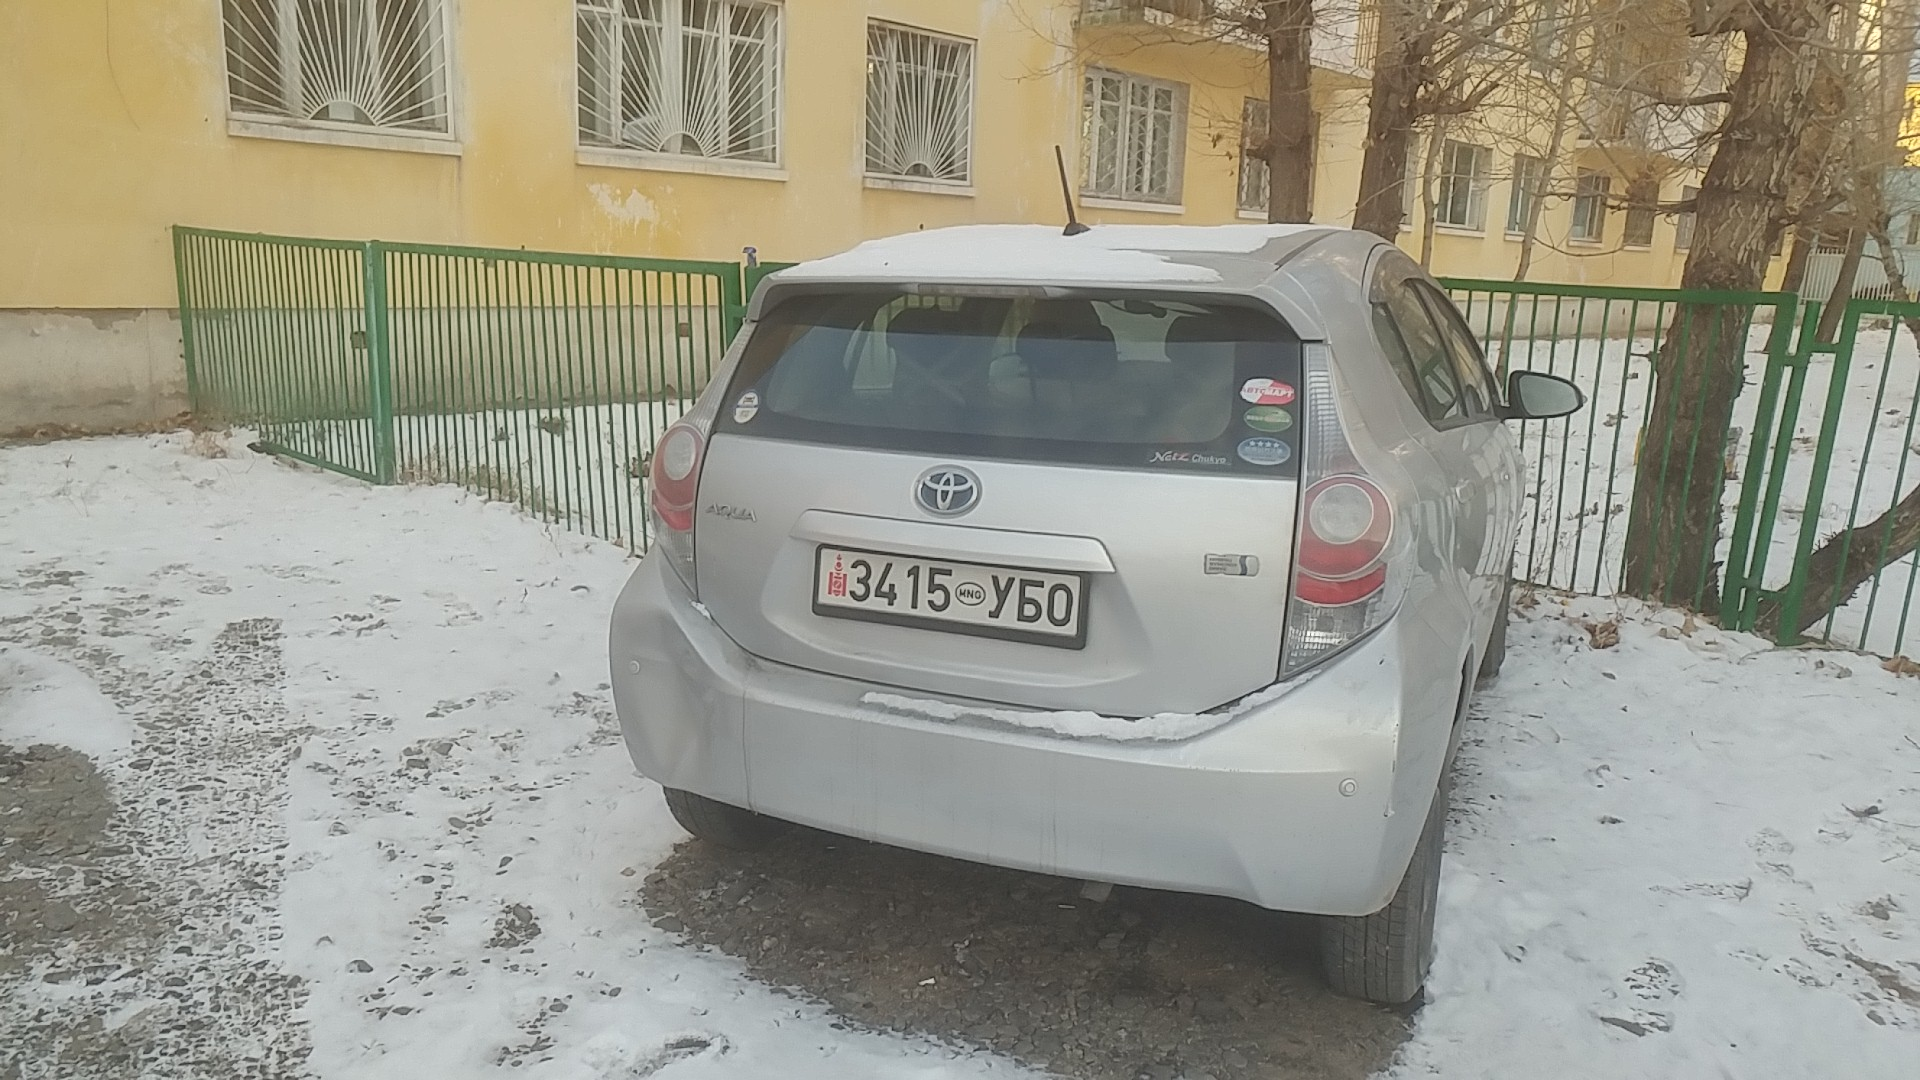0: (1046, 580, 1073, 627)
1: (903, 562, 924, 611)
3: (848, 558, 874, 602)
4: (873, 559, 900, 608)
5: (926, 565, 957, 612)
b: (1017, 576, 1045, 624)
plate: (809, 538, 1091, 654)
u: (986, 572, 1016, 618)
